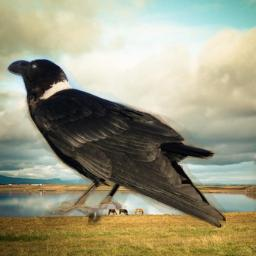Crow: (4, 53, 226, 228)
